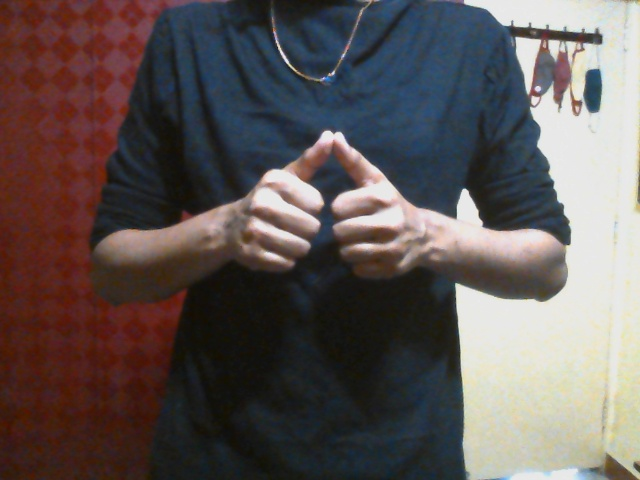A: (229, 129, 421, 284)
